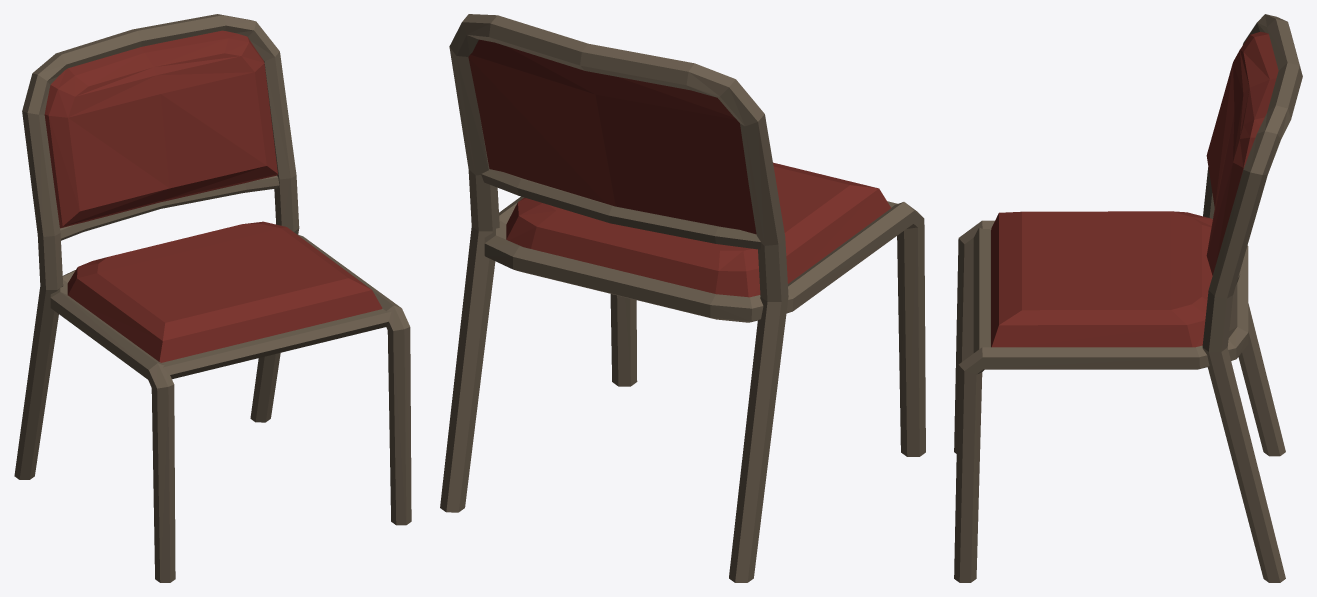
File: StackChair.obj
The picture shows the model from 3 angles, left to right: view 1: azimuth 30°, elevation 25°; view 2: azimuth 150°, elevation 25°; view 3: azimuth 270°, elevation 25°; orthographic projection. The views are drawn at different scales.
Visible parts, largest first — view 1: StackChair; view 2: StackChair; view 3: StackChair.
Part boxes in pixels (bbox=[...]): StackChair: bbox=[14, 14, 411, 582]; StackChair: bbox=[440, 14, 925, 582]; StackChair: bbox=[954, 14, 1302, 582].
Size of the model in its own units: 0.532 by 0.83 by 0.5769.
1 material, 1 textured.
